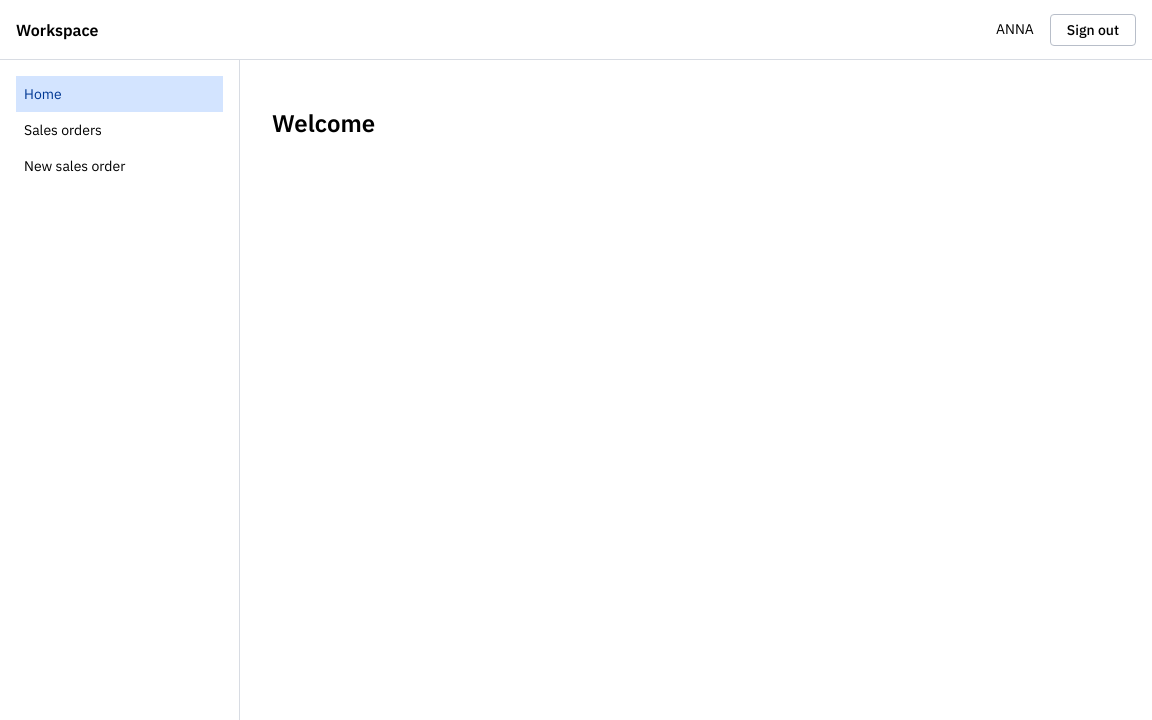
it: shell › signs out and lands on login
This screenshot has width=1152, height=720.
Click the button "Sign out" at point(1093, 30), box [1050,14,1136,46]
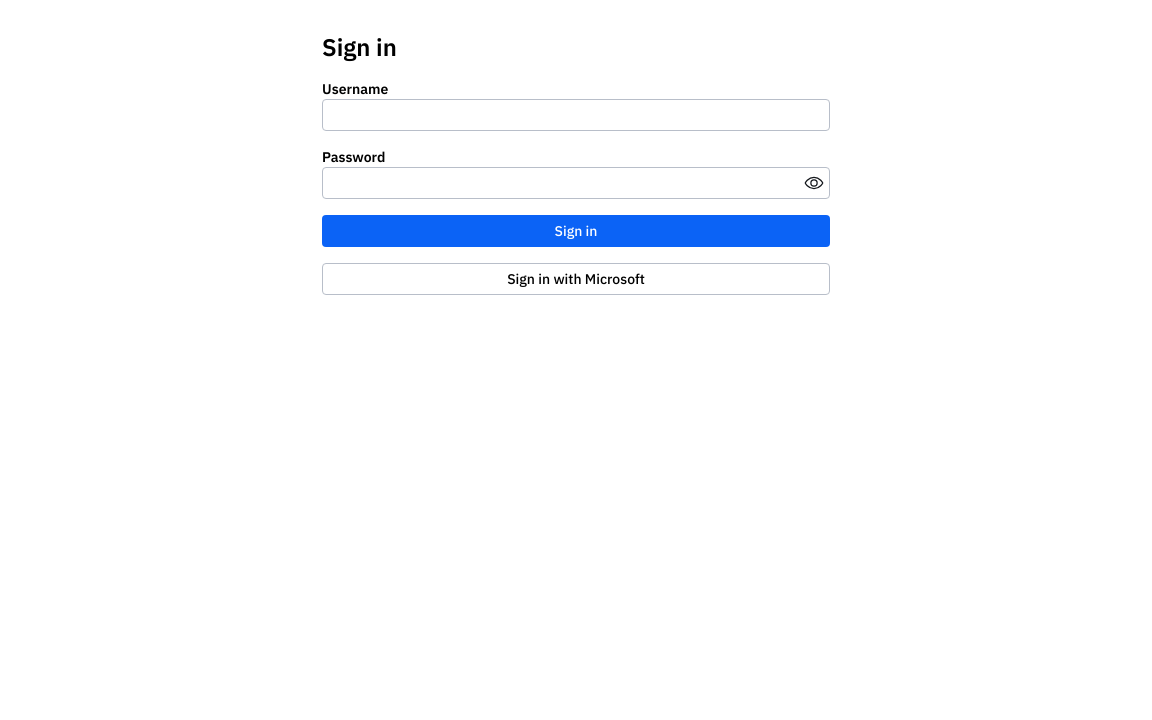
Check: the heading "Sign in" is shown, box [322,31,397,63]
